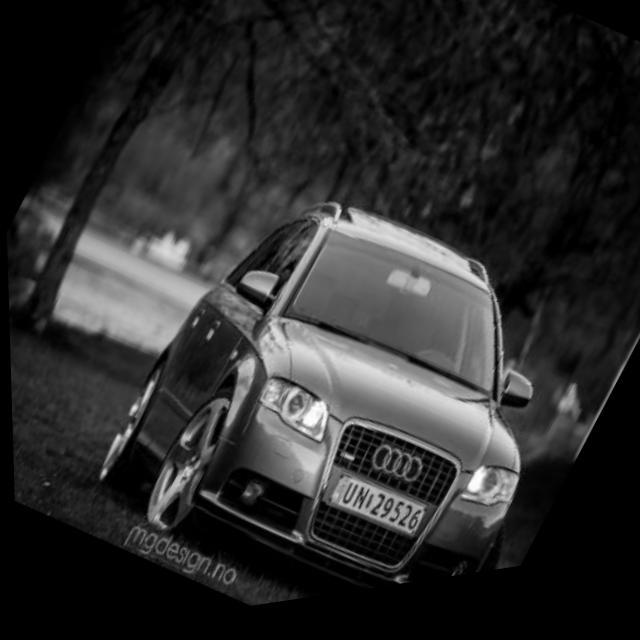license_plate: (320, 466, 428, 566)
